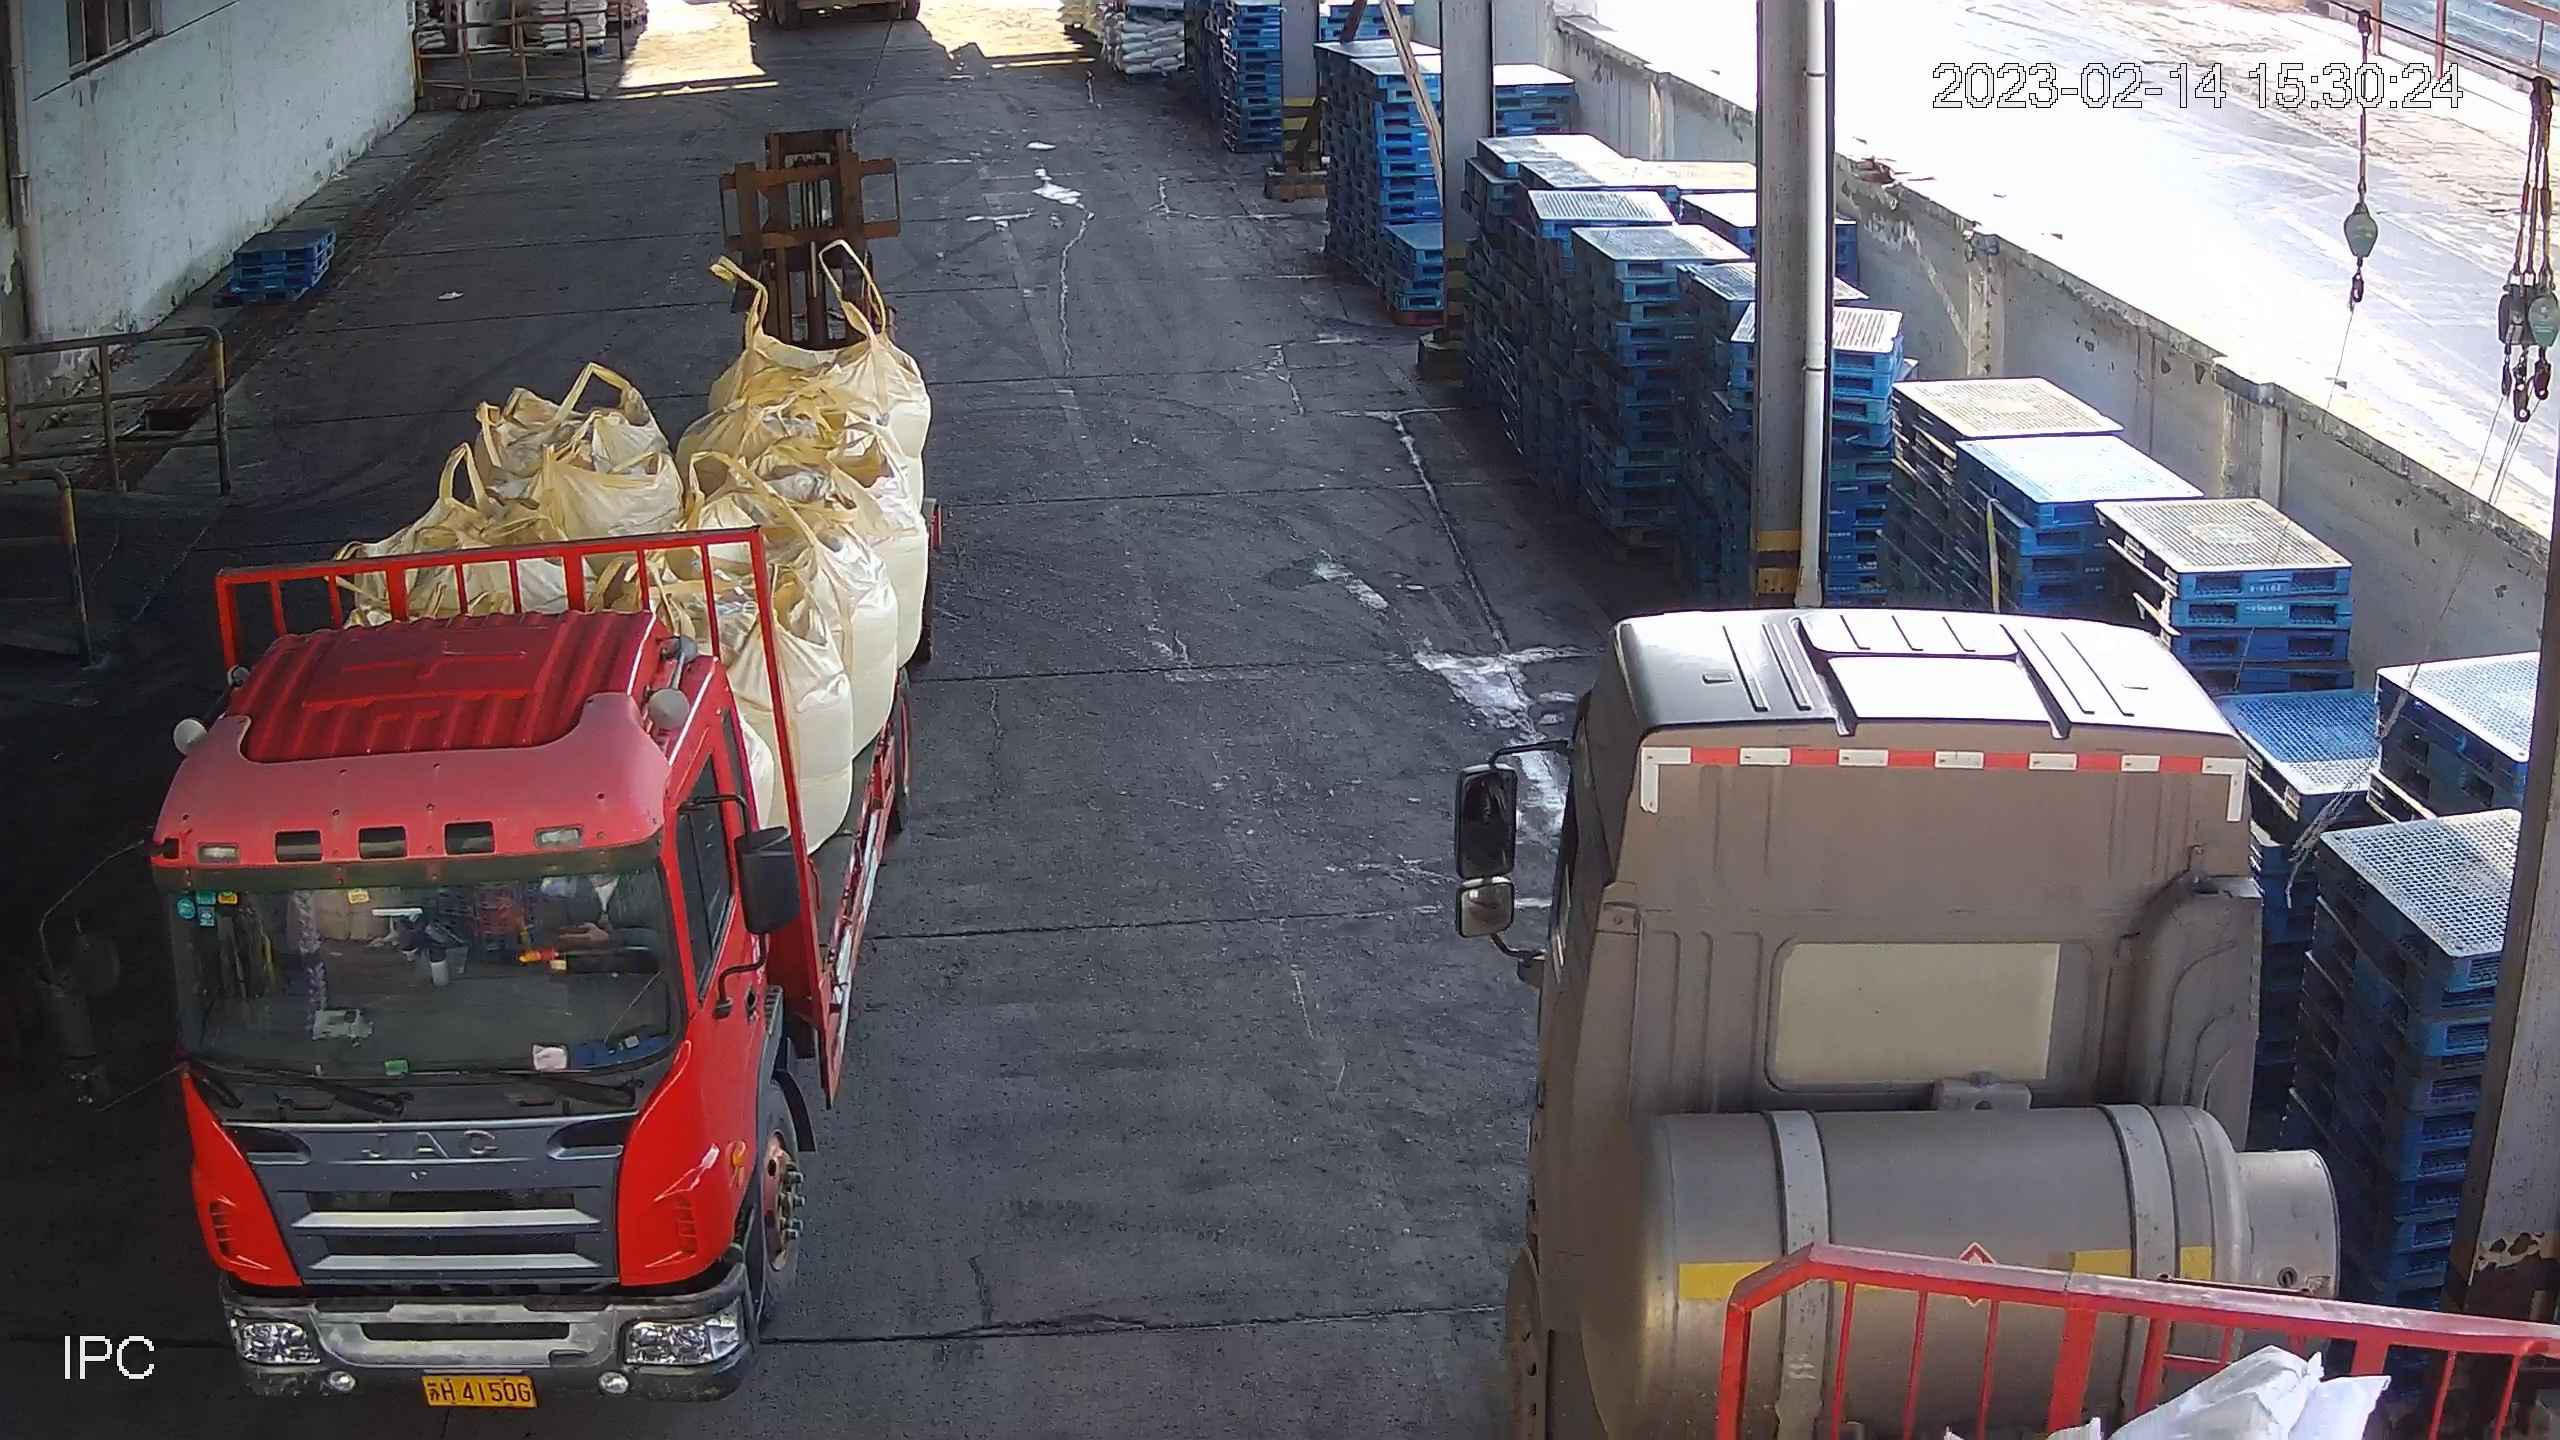truck: (1458, 608, 2560, 1440), (32, 494, 941, 1407)
